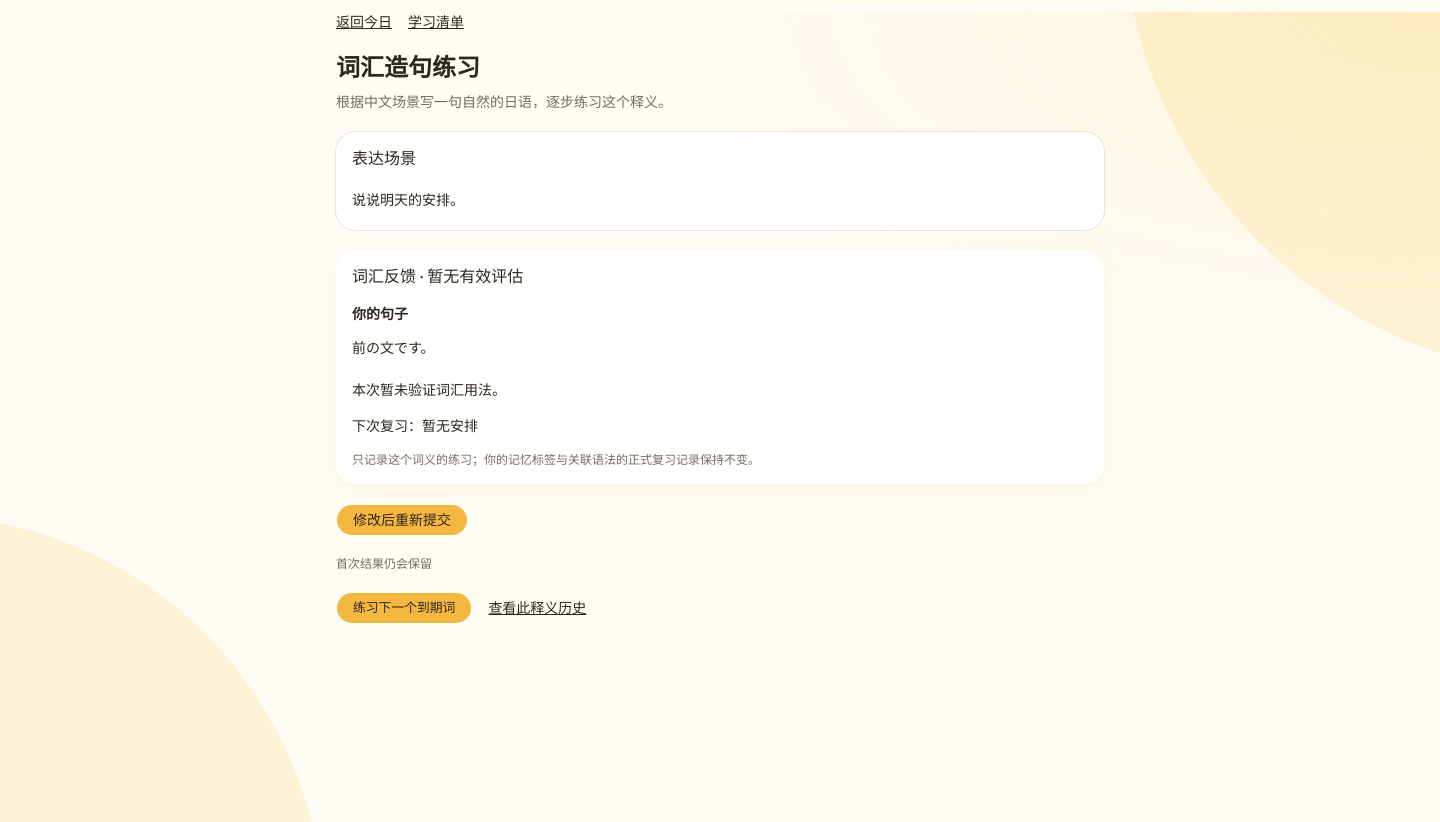
Test: vocabulary evidence boundaries › keeps a rejected TASK_REVIEW_LIMIT draft editable with one membership notice and a fresh UUID
Click the button "修改后重新提交": point(402, 520) [336,504,468,536]
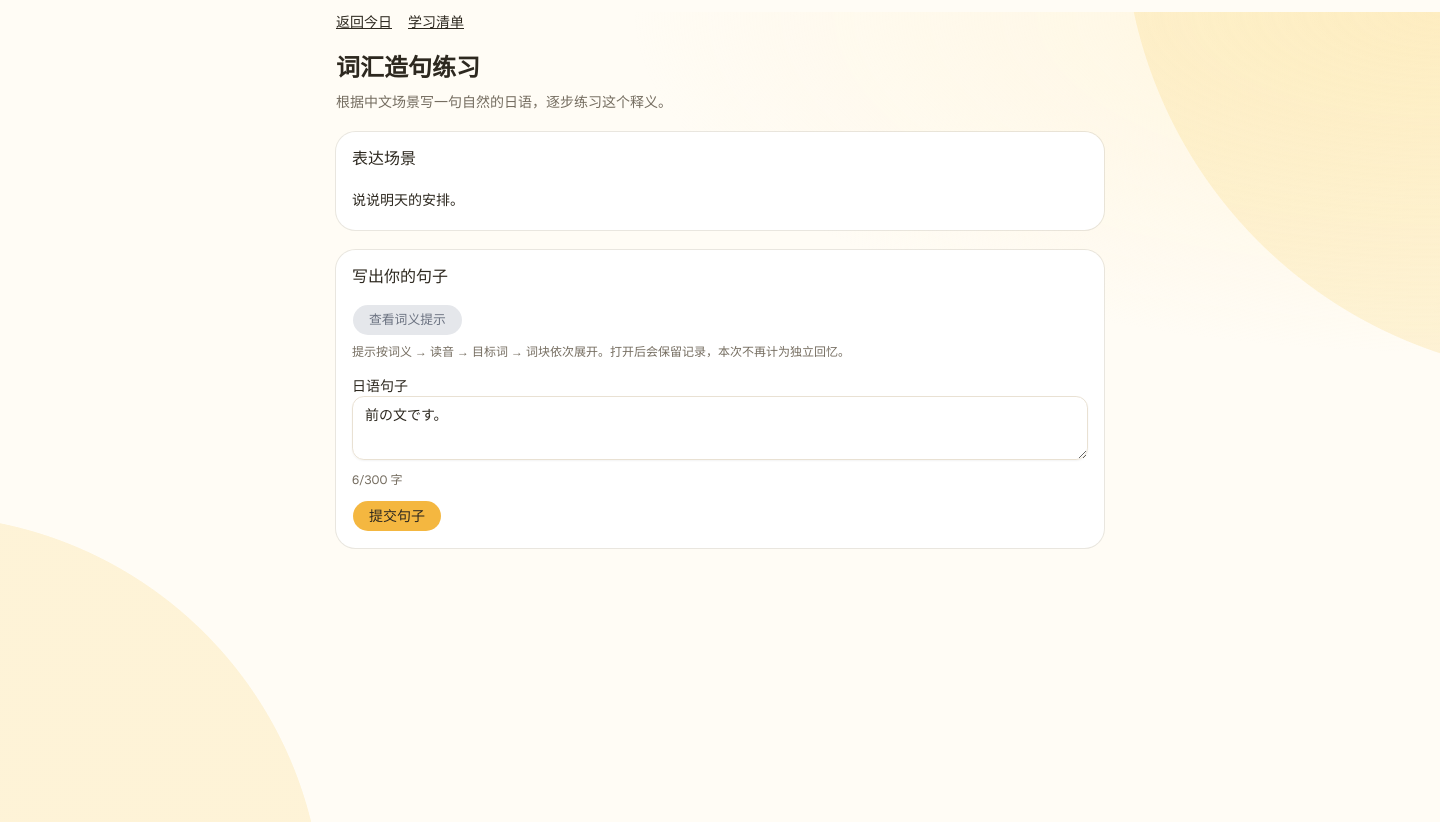
Replace the text in the text box labelled "日语句子" with "  明日は予定があります。  ": point(720, 428) [352,396,1088,460]
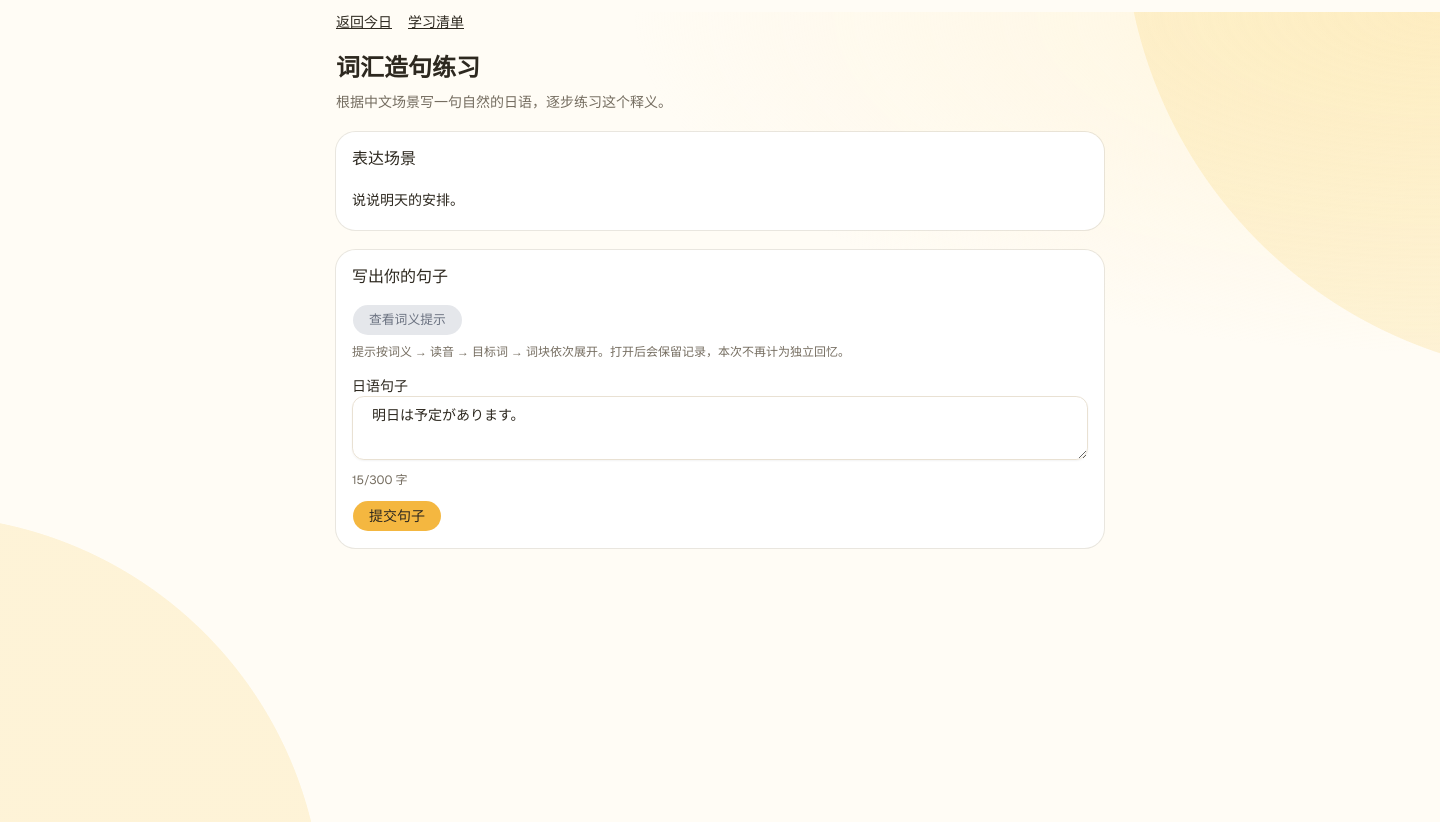
Click the button "提交句子": point(397, 516) [352,500,442,532]
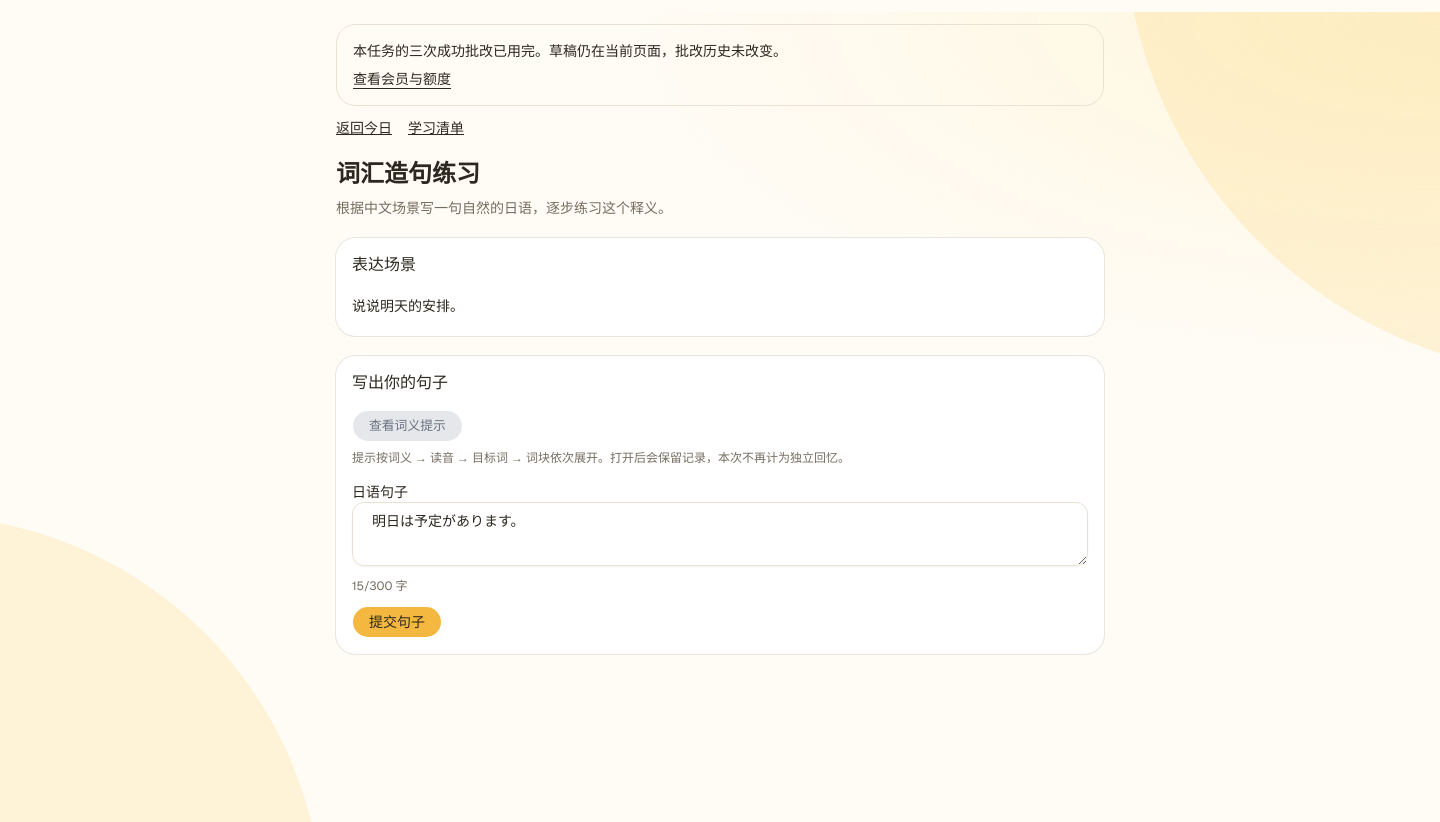
Now the text box labelled "日语句子" is enabled
Now the number of messages is 1, box [336,24,1104,106]
Now the message shows "草稿仍在当前页面", box [353,42,787,60]
# Re-enter after upgrading: unchanged drafts also require a new admission key.
Replace the text in the text box labelled "日语句子" with "明日は会議があります。": point(720, 534) [352,502,1088,566]
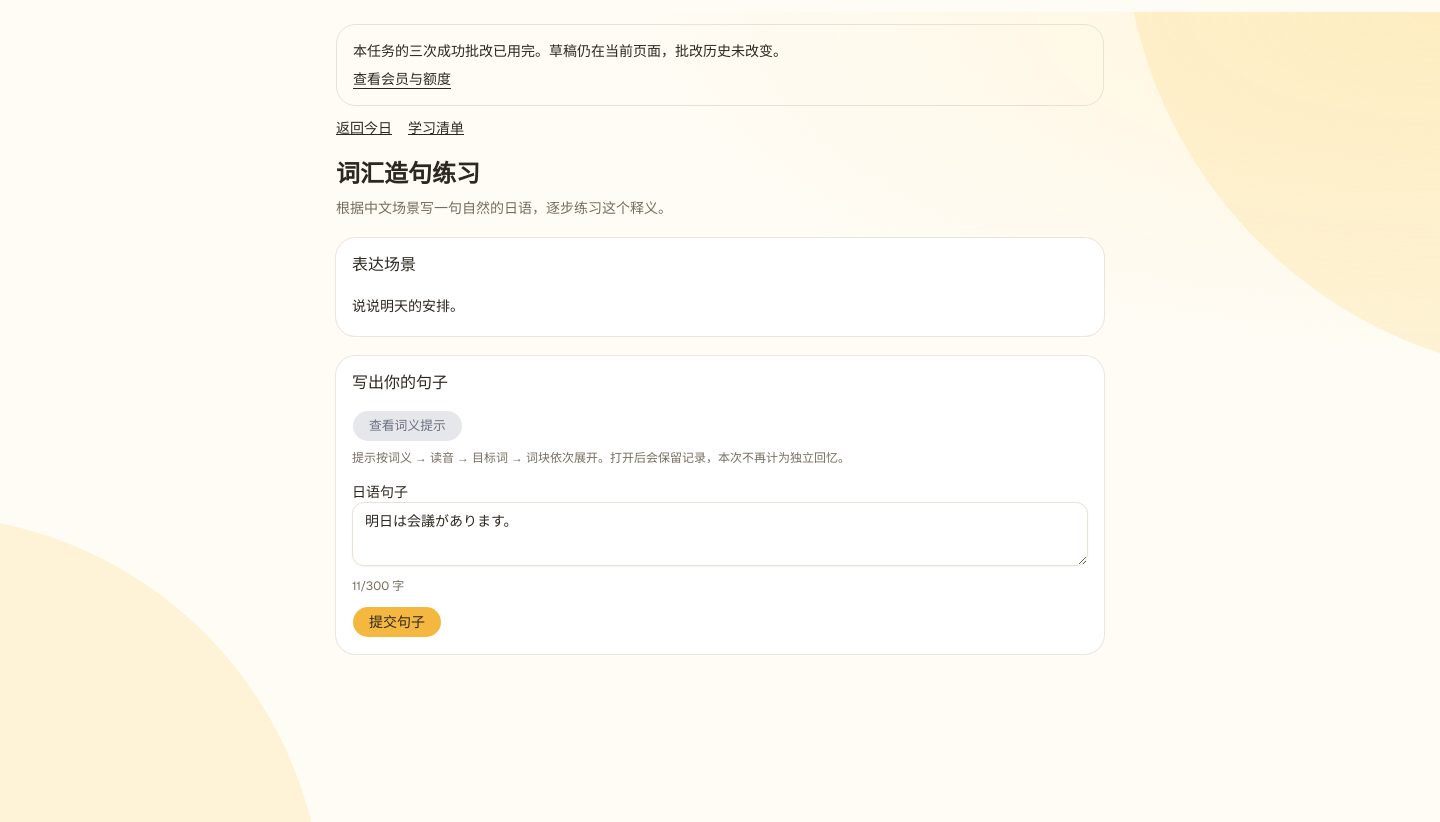
Click the button "提交句子": point(397, 622) [352,606,442,638]
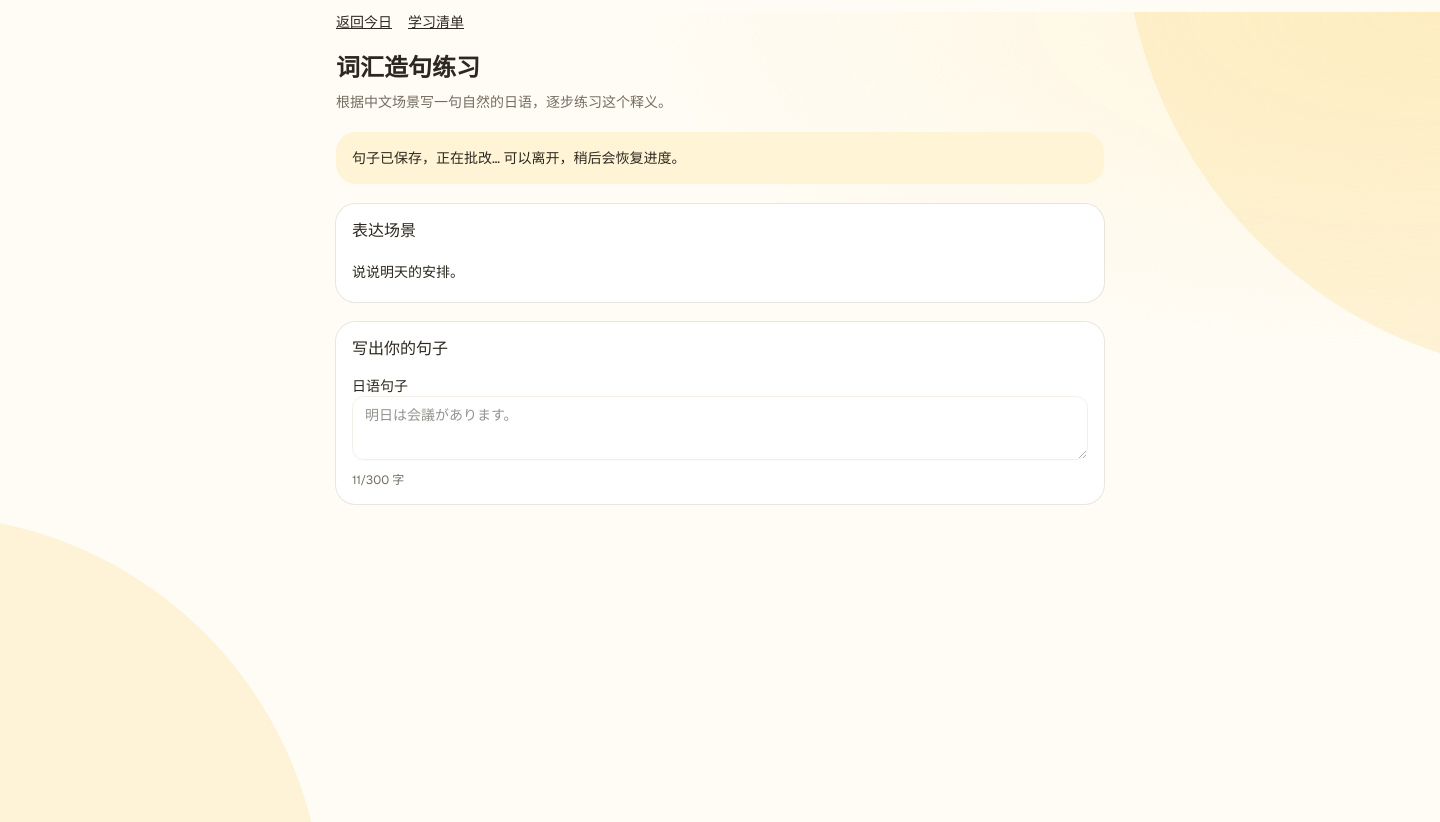
Now the text "句子已保存，正在批改… 可以离开，稍后会恢复进度。" is shown, box [336,132,1104,184]
